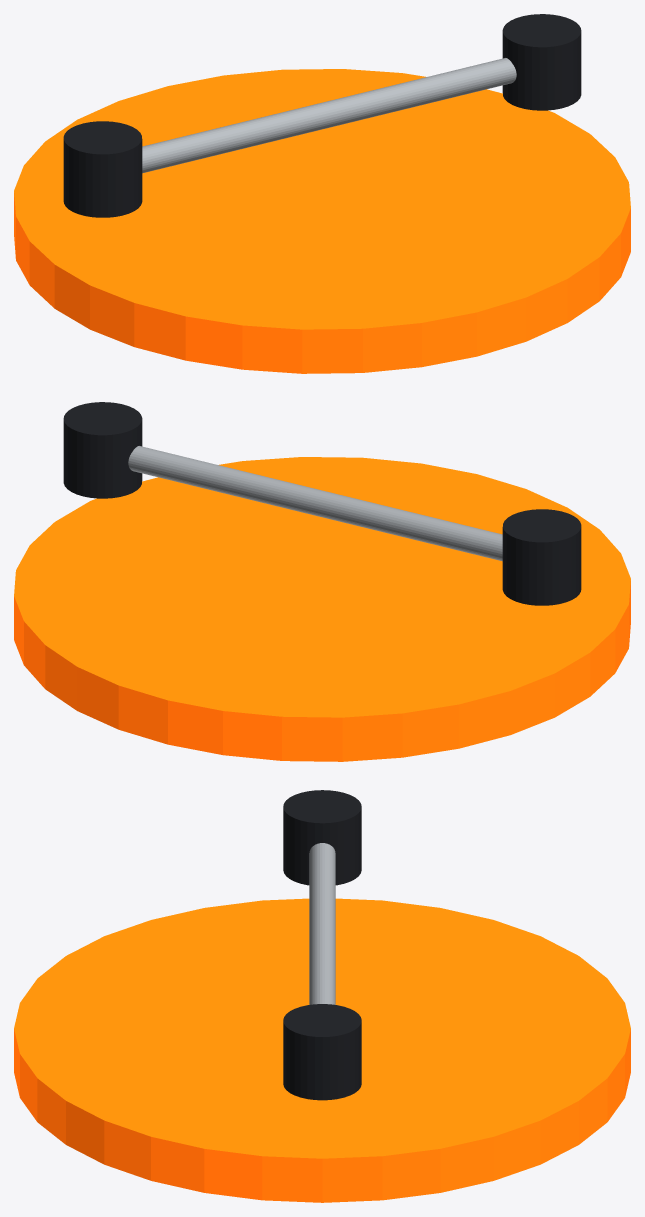
File: fitness_barbell.dae
The picture shows the model from 3 angles, top to bottom: view 1: azimuth 30°, elevation 25°; view 2: azimuth 150°, elevation 25°; view 3: azimuth 270°, elevation 25°; orthographic projection.
Visible parts, largest first — view 1: 02_16_Popular_Fitness_Barbell_ROOT_base, 02_16_Popular_Fitness_Barbell_part_01, 02_16_Popular_Fitness_Barbell_part_02, 02_16_Popular_Fitness_Barbell_part_03; view 2: 02_16_Popular_Fitness_Barbell_ROOT_base, 02_16_Popular_Fitness_Barbell_part_01, 02_16_Popular_Fitness_Barbell_part_02, 02_16_Popular_Fitness_Barbell_part_03; view 3: 02_16_Popular_Fitness_Barbell_ROOT_base, 02_16_Popular_Fitness_Barbell_part_03, 02_16_Popular_Fitness_Barbell_part_02, 02_16_Popular_Fitness_Barbell_part_01.
Boxes of the visible parts, box(x1,y1,x2,y2) form: 02_16_Popular_Fitness_Barbell_ROOT_base: box(14, 69, 630, 373); 02_16_Popular_Fitness_Barbell_part_01: box(142, 58, 516, 173); 02_16_Popular_Fitness_Barbell_part_02: box(63, 121, 142, 217); 02_16_Popular_Fitness_Barbell_part_03: box(502, 14, 581, 110); 02_16_Popular_Fitness_Barbell_ROOT_base: box(14, 457, 630, 761); 02_16_Popular_Fitness_Barbell_part_01: box(128, 446, 502, 561); 02_16_Popular_Fitness_Barbell_part_02: box(502, 509, 581, 605); 02_16_Popular_Fitness_Barbell_part_03: box(63, 402, 142, 498); 02_16_Popular_Fitness_Barbell_ROOT_base: box(14, 898, 630, 1202); 02_16_Popular_Fitness_Barbell_part_03: box(283, 1004, 361, 1100); 02_16_Popular_Fitness_Barbell_part_02: box(283, 790, 361, 885); 02_16_Popular_Fitness_Barbell_part_01: box(309, 843, 335, 1004).
Bounding box in the file's own units: 0.76 × 0.216 × 0.76.
